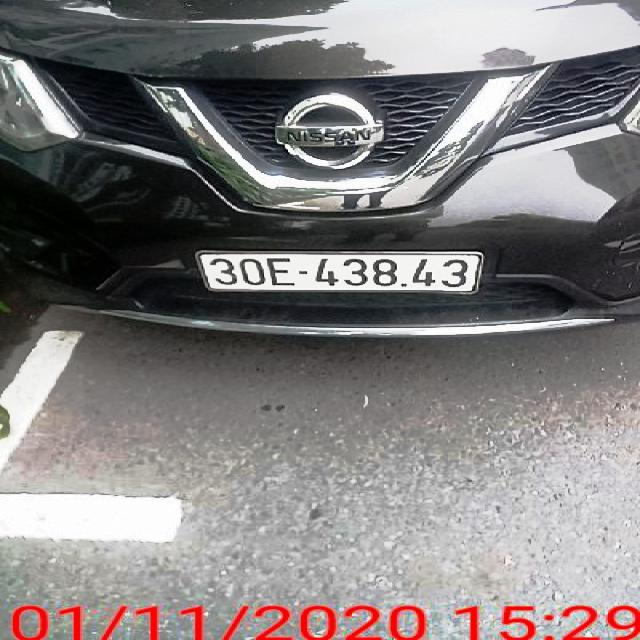license_plate: (198, 253, 481, 293)
